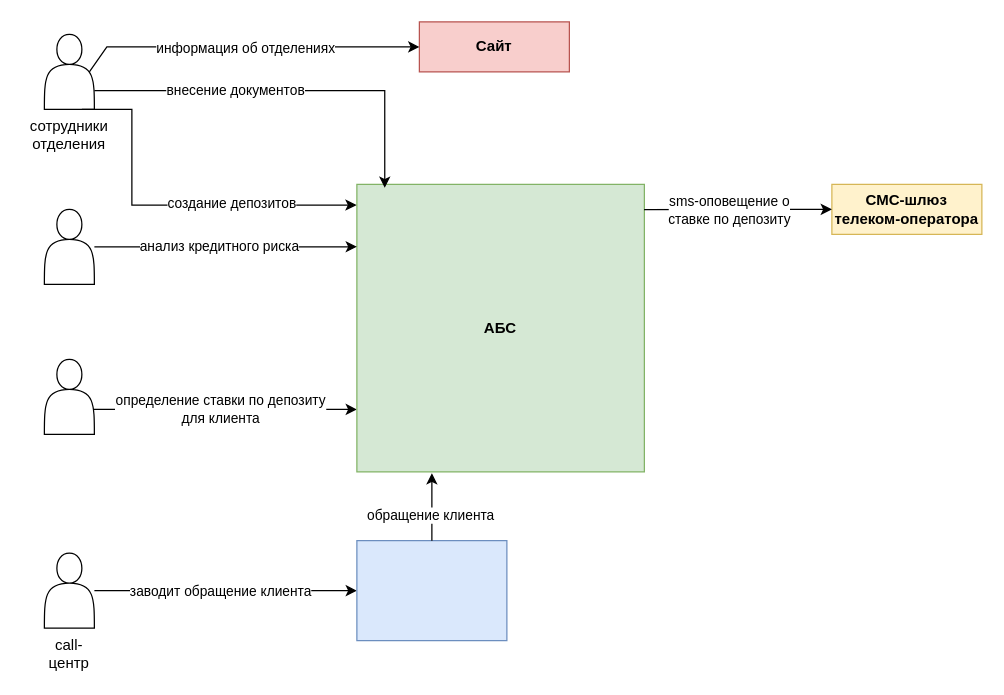
Some shapes in this 1004 by 695 pixel diagram are drawn without their labels. Each missing label, with the centre of its shape:
отдел депозитов: point 68,396
отдел кредитования: point 68,246
Система call-центра: point 431,590
